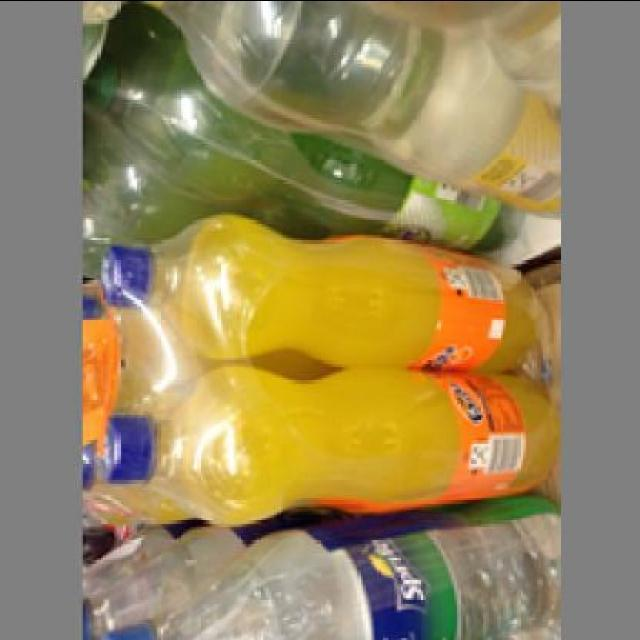Fanta: (97, 372, 552, 530), (97, 213, 537, 369)
